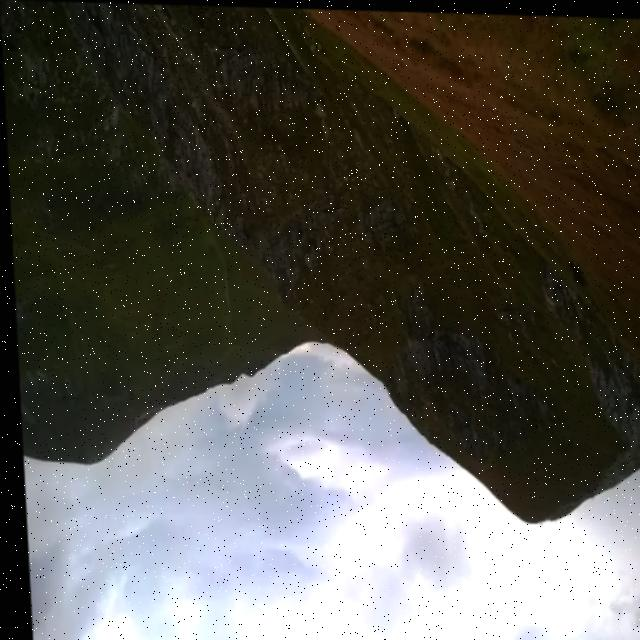Kopa Kondracka: (436, 436, 640, 617)
Malolaczniak: (19, 369, 171, 550)
